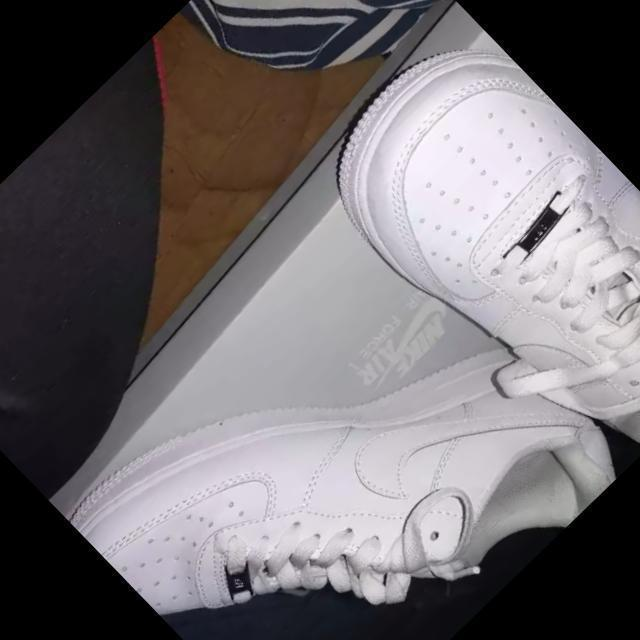nike fake air force: (59, 158, 640, 640), (293, 11, 640, 492)
